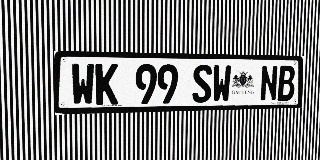9: (136, 64, 157, 104), (157, 64, 178, 104)
B: (277, 66, 295, 101)
K: (95, 64, 118, 105)
N: (260, 65, 278, 101)
S: (192, 65, 212, 103)
W: (71, 63, 95, 106), (212, 65, 231, 102)
